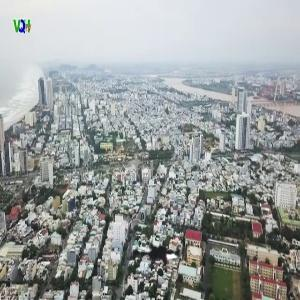drone: (116, 219, 198, 300)
